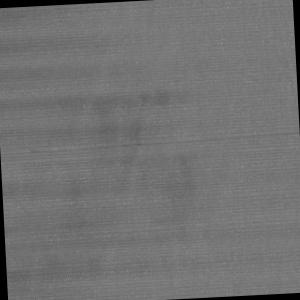Wrinkle: (1, 1, 188, 129)
